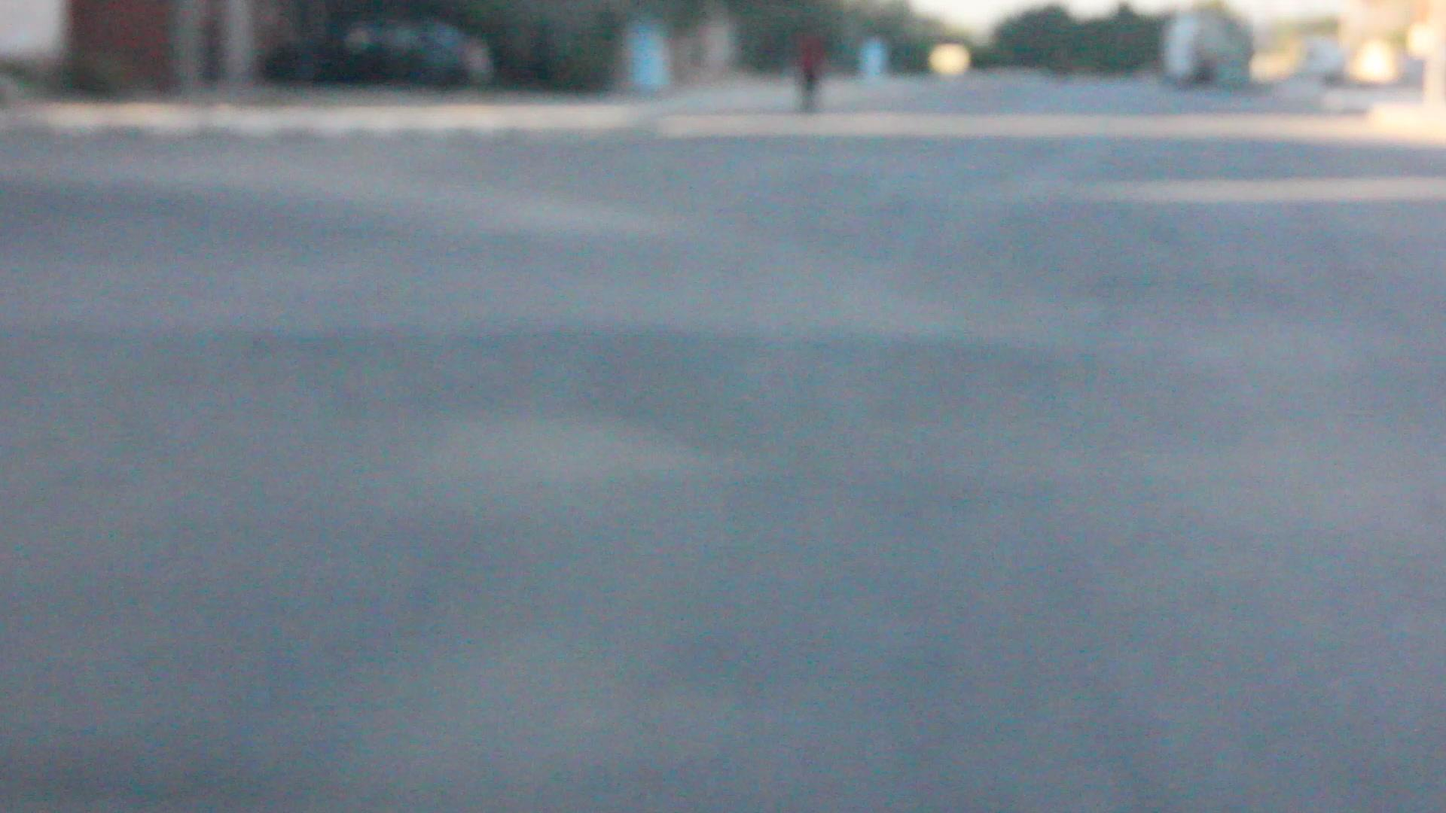Bump: (2, 320, 1442, 480)
